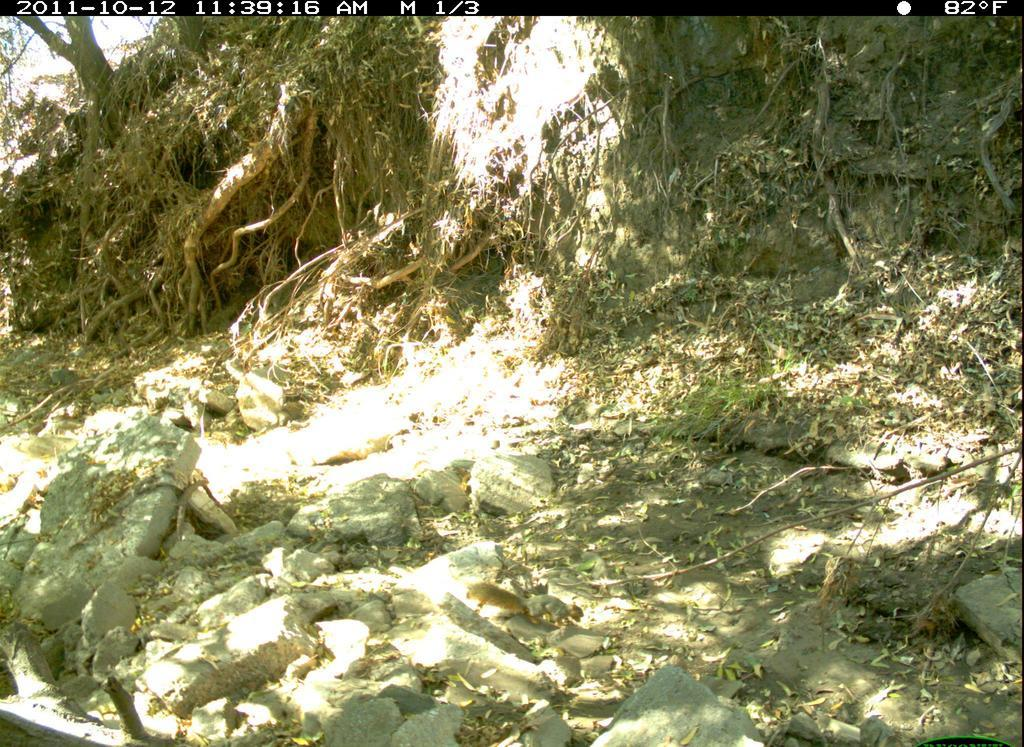squirrel: (464, 569, 597, 633)
